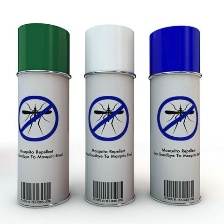aerosol_cans: (11, 20, 71, 210), (144, 21, 203, 208), (80, 21, 137, 210)
